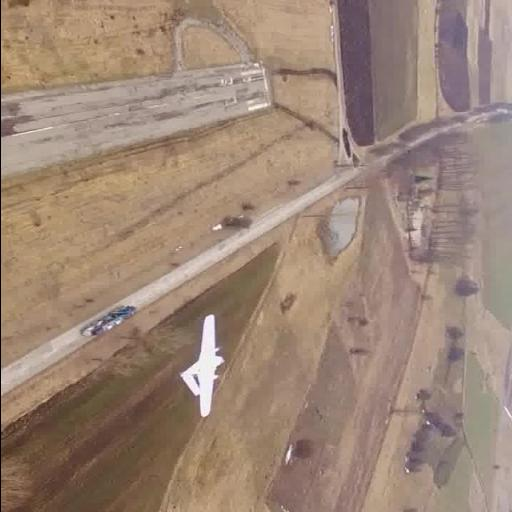uav: (174, 310, 232, 420)
